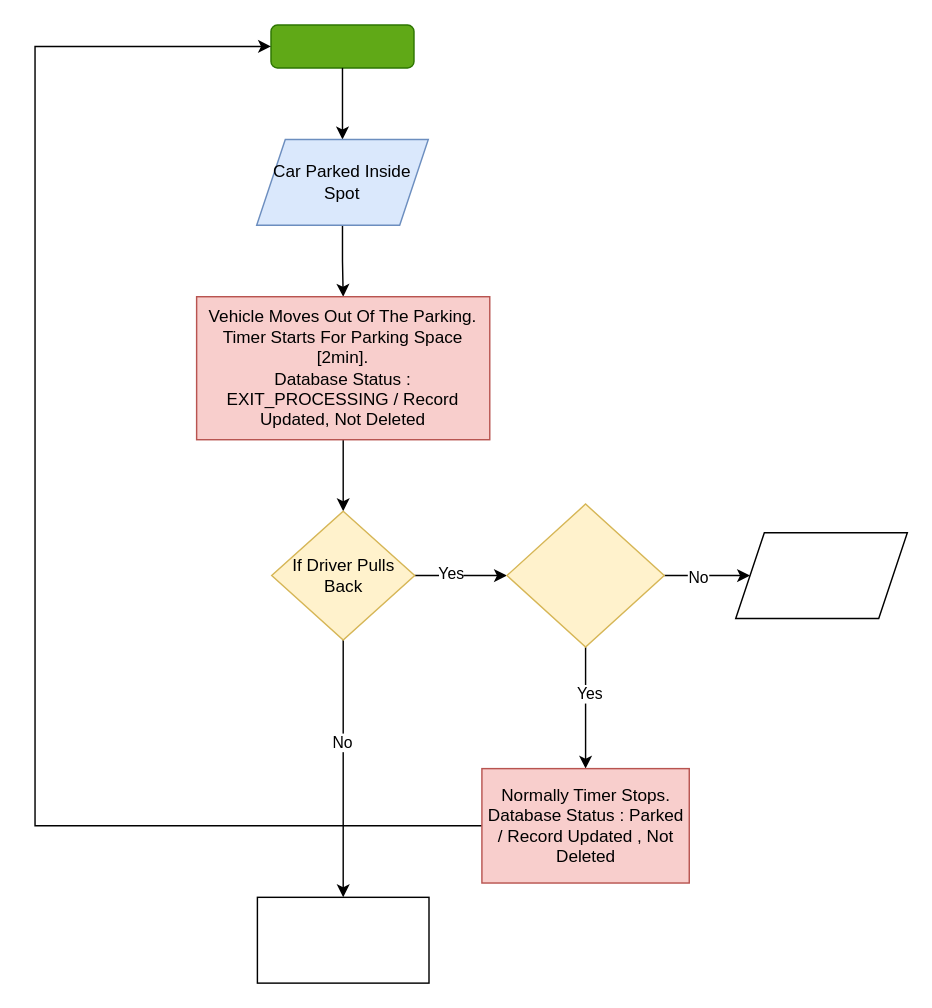
Some shapes in this 932 by 1008 pixel diagram are drawn without their labels. Here are the shapes that lost their labels. From the top down, the box of each, then its label:
(270, 24, 414, 68): Start Exit Phase
(506, 503, 664, 647): If Pulling Back Under 2min
